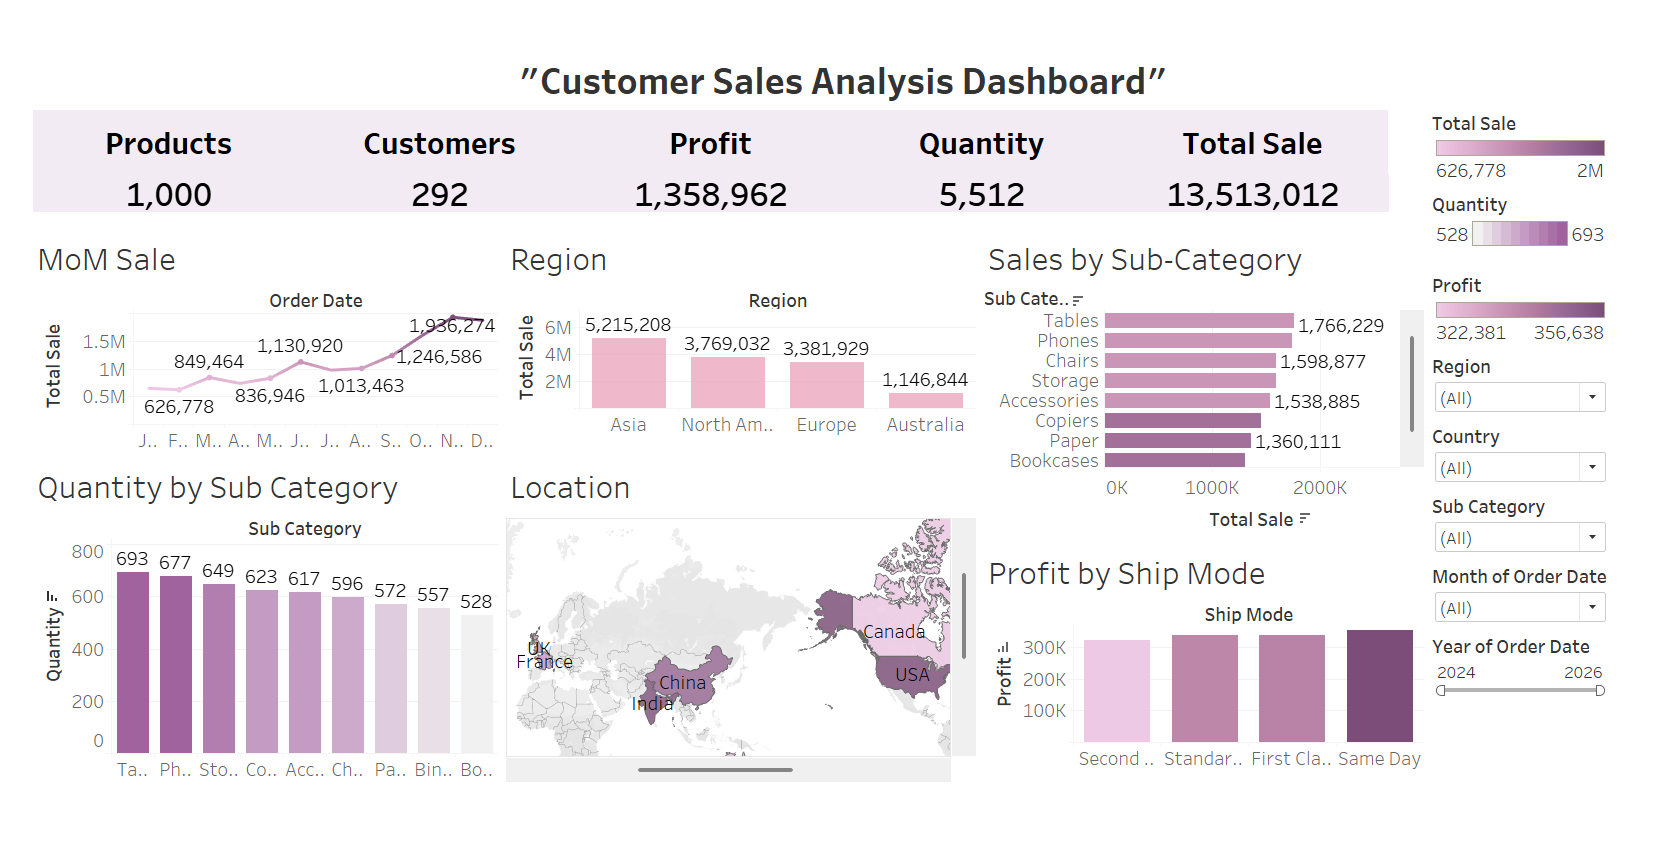

The dashboard page shown, as its layout file describes it:
{"tool":"tableau","page":{"name":"\"Customer Sales Analysis Dashboard\"","canvas":[1000,1000],"units":"permille","ordinal":0},"visuals":[{"type":"title","box":[5.1,11.1,989.9,74.9]},{"type":"worksheet","title":"KPI","mark":"Text","box":[5.1,86,872.7,163.6]},{"type":"legend","title":"MoM Sale","param":"[federated.011kygy1cyihzc1cvxkyu1vyz9hl].[sum:Total Sale:qk]","box":[877.8,86,117.2,112.4]},{"type":"legend","title":"Quantity by Sub Category","param":"[federated.011kygy1cyihzc1cvxkyu1vyz9hl].[sum:Quantity:qk]","box":[877.8,198.3,117.2,112.4]},{"type":"worksheet","title":"MoM Sale","mark":"Automatic","rows":["Total Sale"],"cols":["Order Date"],"box":[5.1,249.6,295.3,302.5]},{"type":"worksheet","title":"Region","mark":"Automatic","rows":["Total Sale"],"cols":["Region"],"box":[300.4,249.6,297.9,302.5]},{"type":"worksheet","title":"Sales by Sub-Category","mark":"Automatic","rows":["Sub Category"],"cols":["Total Sale"],"box":[598.3,249.6,279.4,416.1]},{"type":"legend","title":"Profit by Ship Mode","param":"[federated.011kygy1cyihzc1cvxkyu1vyz9hl].[sum:Profit:qk]","box":[877.8,310.7,117.2,112.4]},{"type":"filter","title":"Region","param":"[federated.011kygy1cyihzc1cvxkyu1vyz9hl].[none:Region:nk]","box":[877.8,423.1,117.2,97.1]},{"type":"filter","title":"Location","param":"[federated.011kygy1cyihzc1cvxkyu1vyz9hl].[none:Country:nk]","box":[877.8,520.1,117.2,97.1]},{"type":"worksheet","title":"Quantity by Sub Category","mark":"Automatic","rows":["Quantity"],"cols":["Sub Category"],"box":[5.1,552.1,295.3,436.8]},{"type":"worksheet","title":"Location","mark":"Automatic","box":[300.4,552.1,297.9,436.8]},{"type":"filter","title":"Sales by Sub-Category","param":"[federated.011kygy1cyihzc1cvxkyu1vyz9hl].[none:Sub Category:nk]","box":[877.8,617.2,117.2,97.1]},{"type":"worksheet","title":"Profit by Ship Mode","mark":"Automatic","rows":["Profit"],"cols":["Ship Mode"],"box":[598.3,665.7,279.4,323.2]},{"type":"filter","title":"MoM Sale","param":"[federated.011kygy1cyihzc1cvxkyu1vyz9hl].[mn:Order Date:ok]","box":[877.8,714.3,117.2,97.1]},{"type":"filter","title":"MoM Sale","param":"[federated.011kygy1cyihzc1cvxkyu1vyz9hl].[tyr:Order Date:qk]","box":[877.8,811.4,117.2,106.8]}]}

Visuals, with their boxes on the dashboard's canvas, which has no fixed pixel size, in thousandths of its width and height (x1, y1, x2, y2). These are canvas units, not pixel positions in the 1663x859 screenshot, which may show the page scaled, cropped or inside an application window:
title: locate(5, 11, 995, 86)
"KPI" worksheet (Text marks): locate(5, 86, 878, 250)
"MoM Sale" legend: locate(878, 86, 995, 198)
"Quantity by Sub Category" legend: locate(878, 198, 995, 311)
"MoM Sale" worksheet: locate(5, 250, 300, 552)
"Region" worksheet: locate(300, 250, 598, 552)
"Sales by Sub-Category" worksheet: locate(598, 250, 878, 666)
"Profit by Ship Mode" legend: locate(878, 311, 995, 423)
"Region" filter: locate(878, 423, 995, 520)
"Location" filter: locate(878, 520, 995, 617)
"Quantity by Sub Category" worksheet: locate(5, 552, 300, 989)
"Location" worksheet: locate(300, 552, 598, 989)
"Sales by Sub-Category" filter: locate(878, 617, 995, 714)
"Profit by Ship Mode" worksheet: locate(598, 666, 878, 989)
"MoM Sale" filter: locate(878, 714, 995, 811)
"MoM Sale" filter: locate(878, 811, 995, 918)
